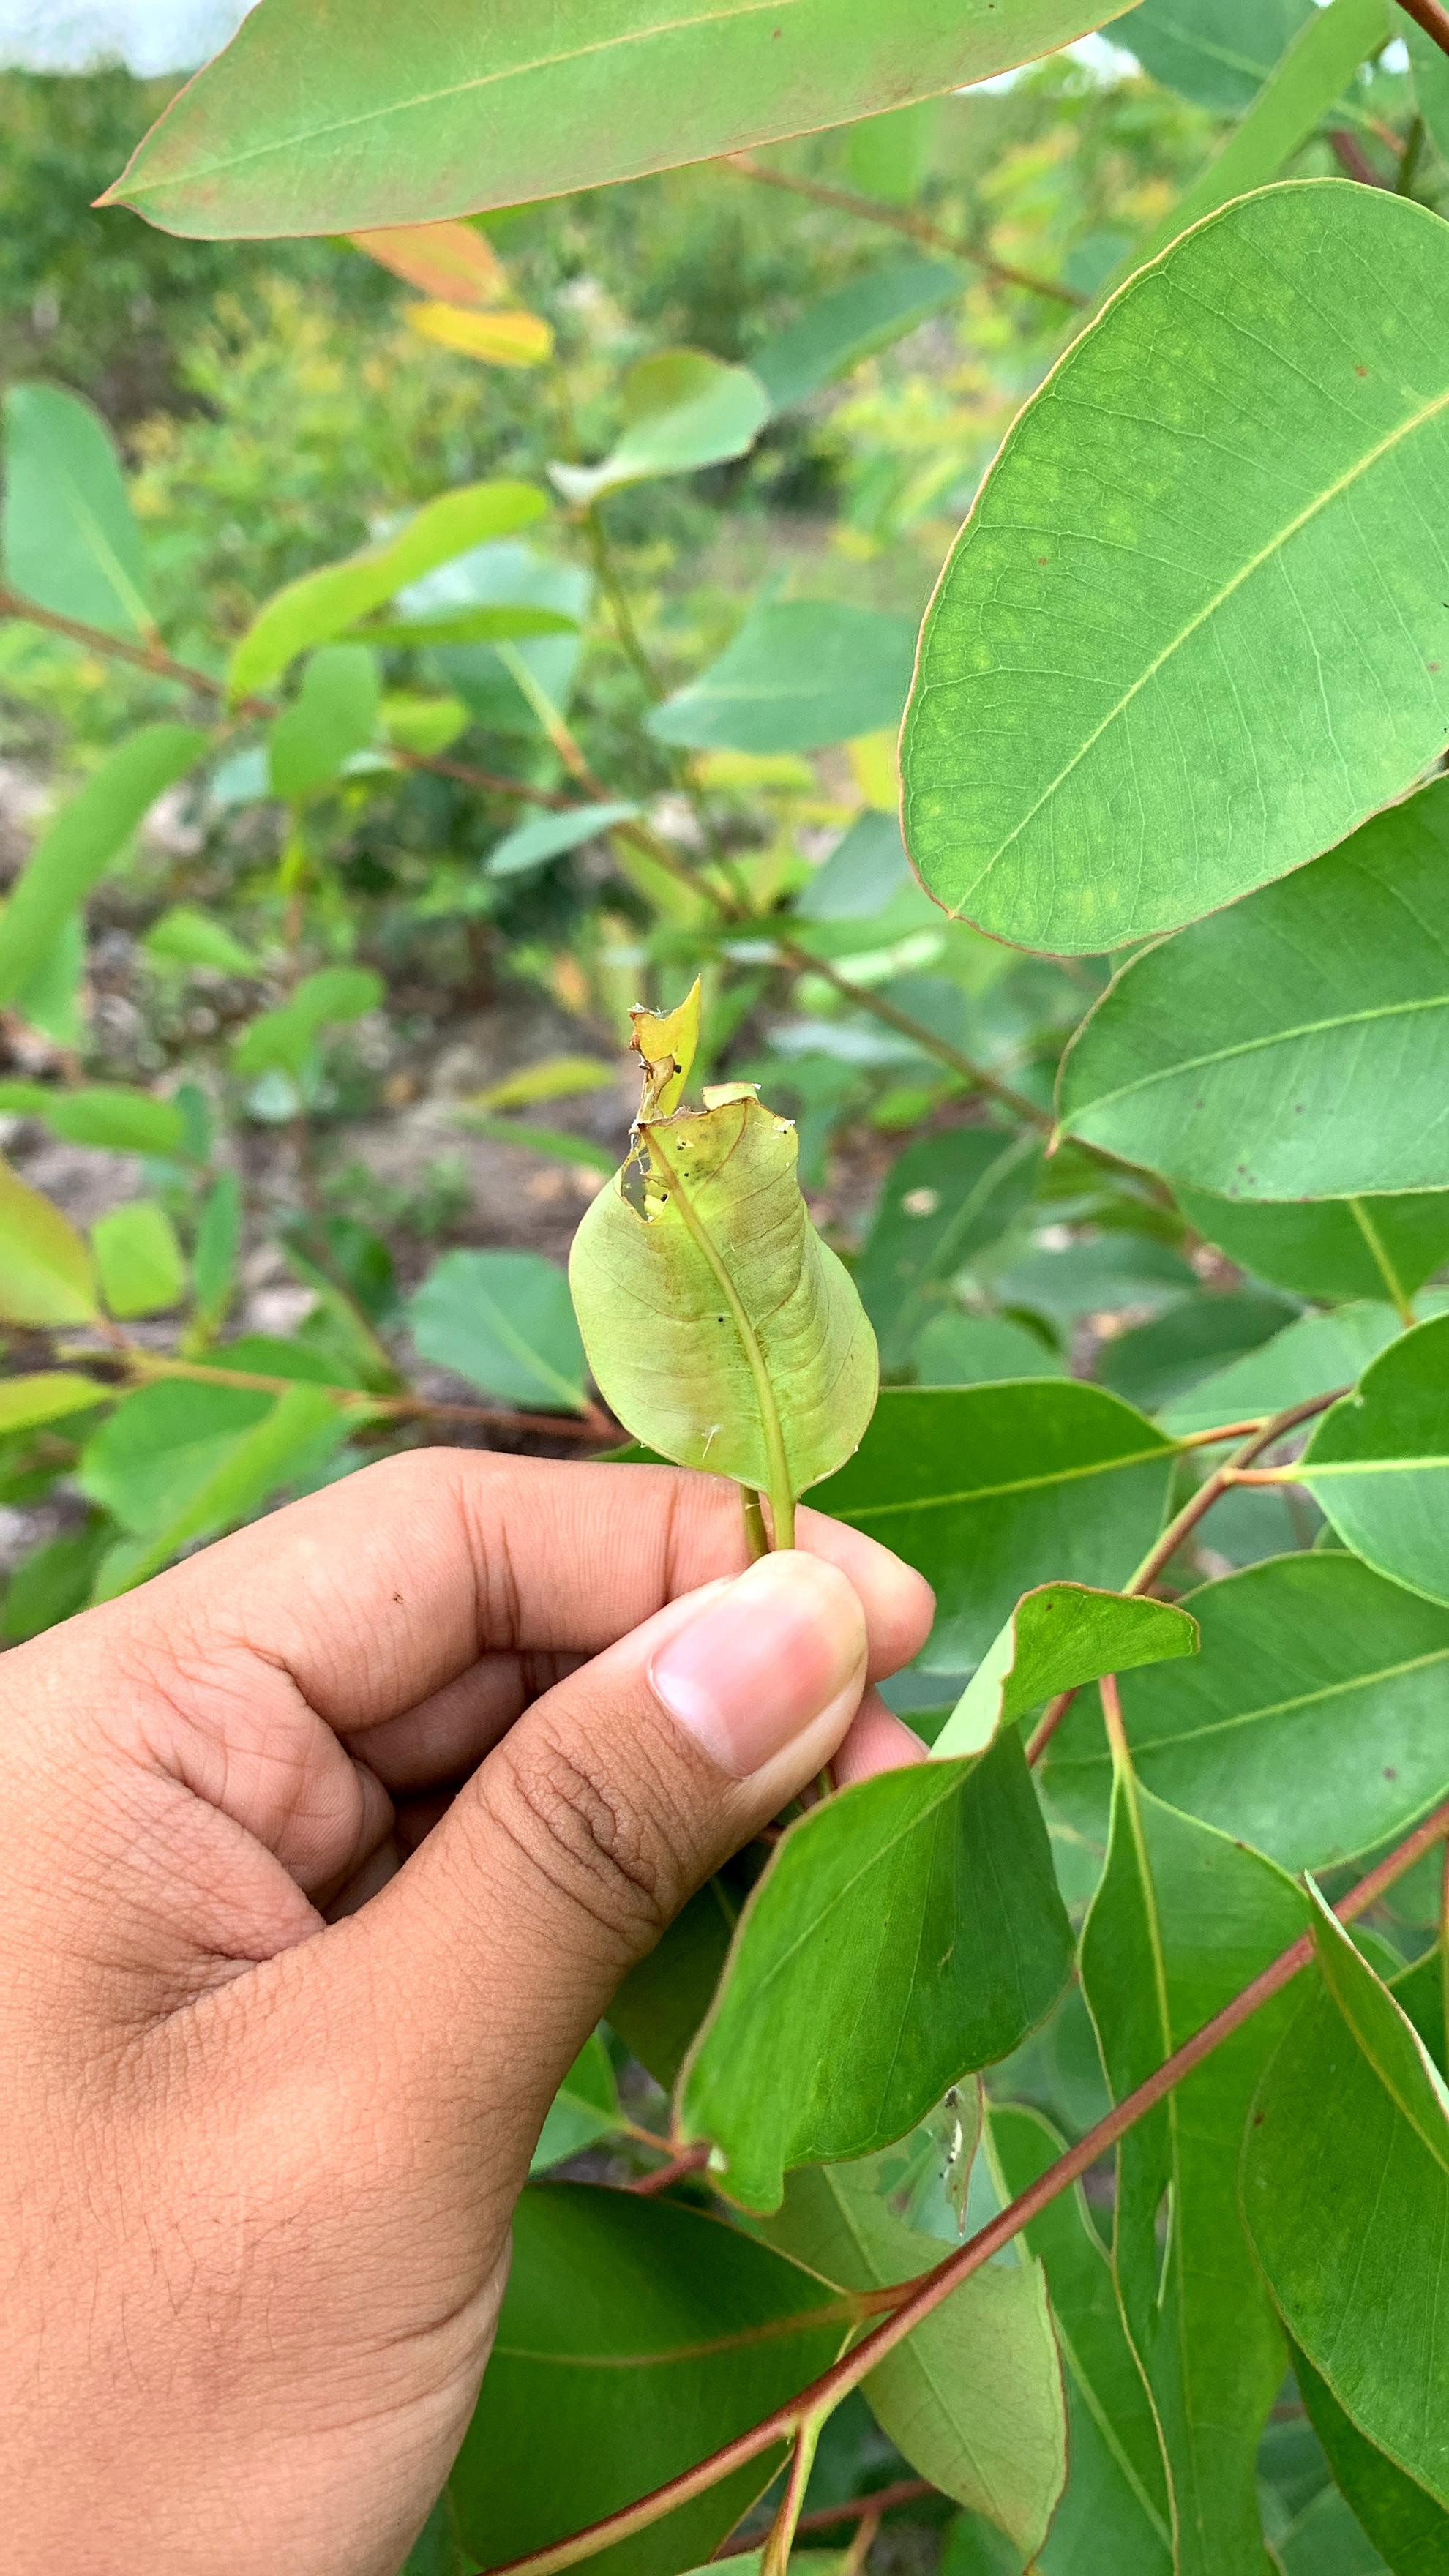Leaf Roller - Leaf: (485, 961, 927, 1564)
